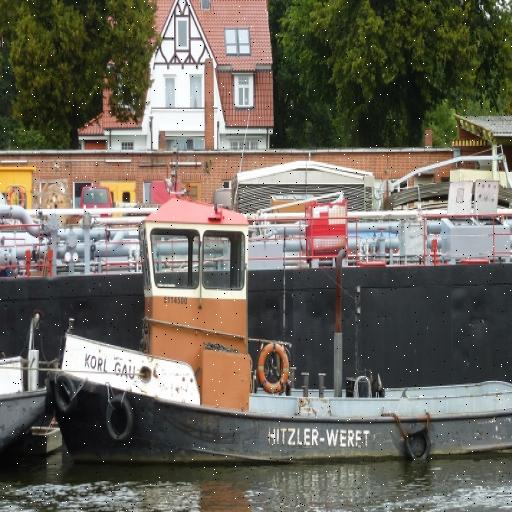tugboat: (41, 192, 512, 474)
